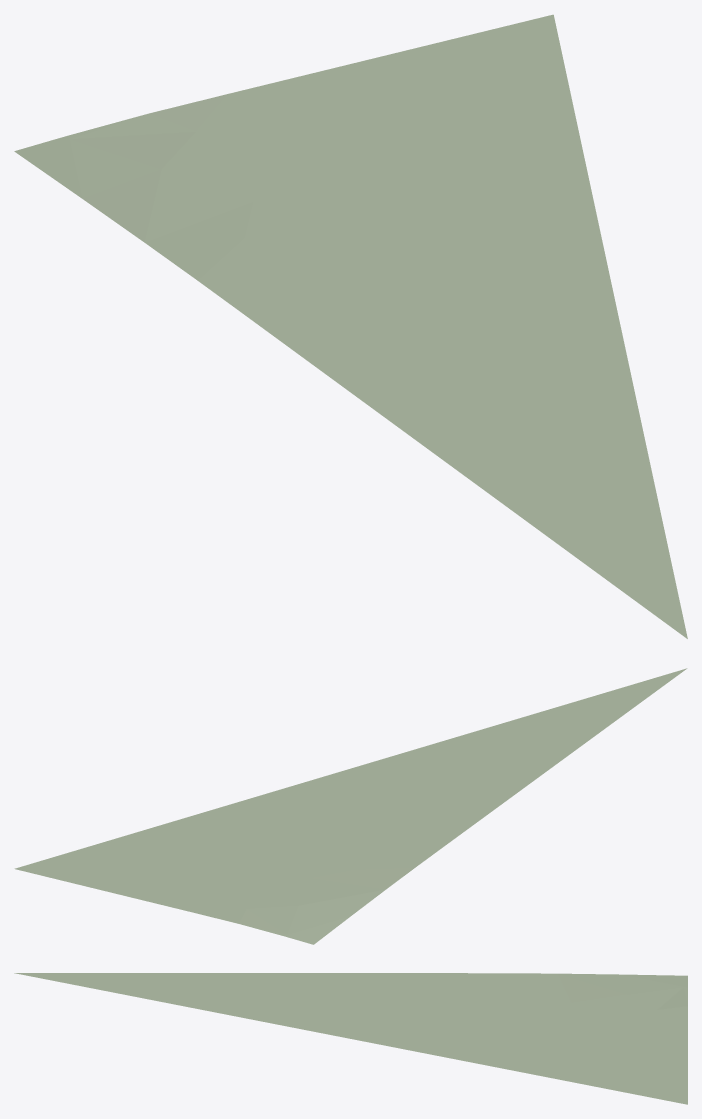
The model's file is SM_MPRR_Terrain_3_-3.fbx.
The picture shows the model from 3 angles, top to bottom: view 1: azimuth 30°, elevation 25°; view 2: azimuth 150°, elevation 25°; view 3: azimuth 270°, elevation 25°; orthographic projection. The views are drawn at different scales.
Visible parts, largest first — view 1: SM_MPRR_Terrain_3_-3; view 2: SM_MPRR_Terrain_3_-3; view 3: SM_MPRR_Terrain_3_-3.
Boxes of the visible parts, box(x1,y1,x2,y2) form: SM_MPRR_Terrain_3_-3: box(14, 14, 687, 638); SM_MPRR_Terrain_3_-3: box(14, 668, 687, 944); SM_MPRR_Terrain_3_-3: box(14, 973, 687, 1104).
Size of the model in its own units: 4813 by 10410 by 43.99.
